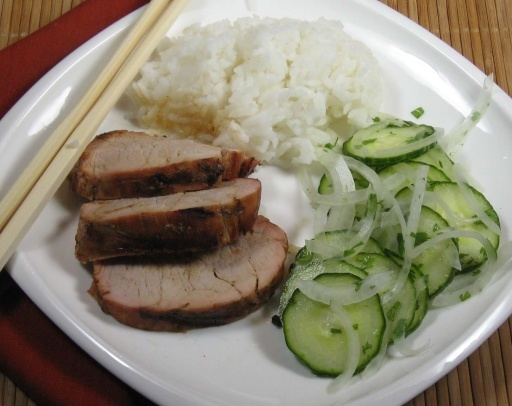background: (55, 10, 403, 250)
